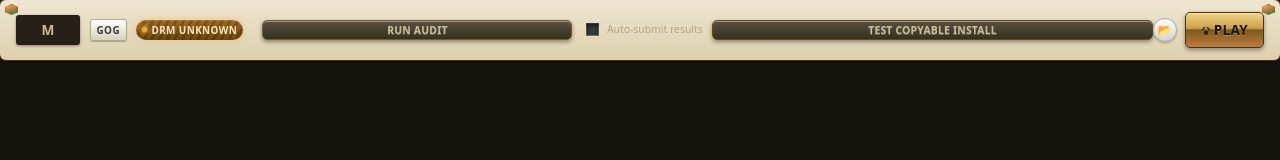
Scenario: GameCard local automated axis tests › shows an inline error when the portability test rejects (e.g. not enough disk space)
This screenshot has width=1280, height=160.
Click the button "Test copyable install" at (932, 30), box [712, 20, 1153, 40]
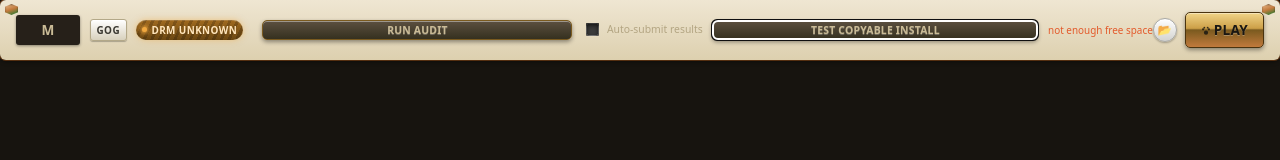
Expected: the text "not enough free space" is shown, [1048, 22, 1153, 37]
